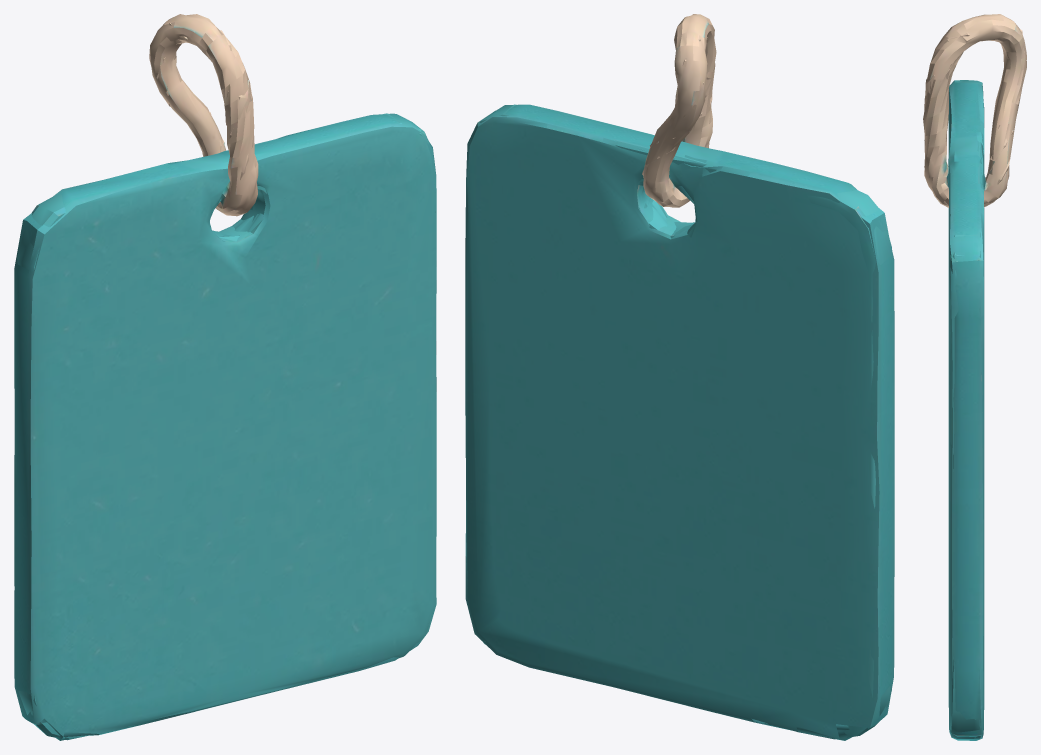
The model's file is dilek-karti.glb.
3 views of the same model, side by side, from view 1: azimuth 30°, elevation 25°; view 2: azimuth 150°, elevation 25°; view 3: azimuth 270°, elevation 25° (orthographic). The views are drawn at different scales.
Visible parts, largest first — view 1: Mesh0; view 2: Mesh0; view 3: Mesh0.
Boxes of the visible parts, bbox=[...] form: Mesh0: bbox=[14, 14, 436, 740]; Mesh0: bbox=[465, 14, 894, 740]; Mesh0: bbox=[923, 14, 1026, 740].
Size of the model in its own units: 1.2 by 1.9 by 0.2797.
Materials: 1 (1 with a texture image).
